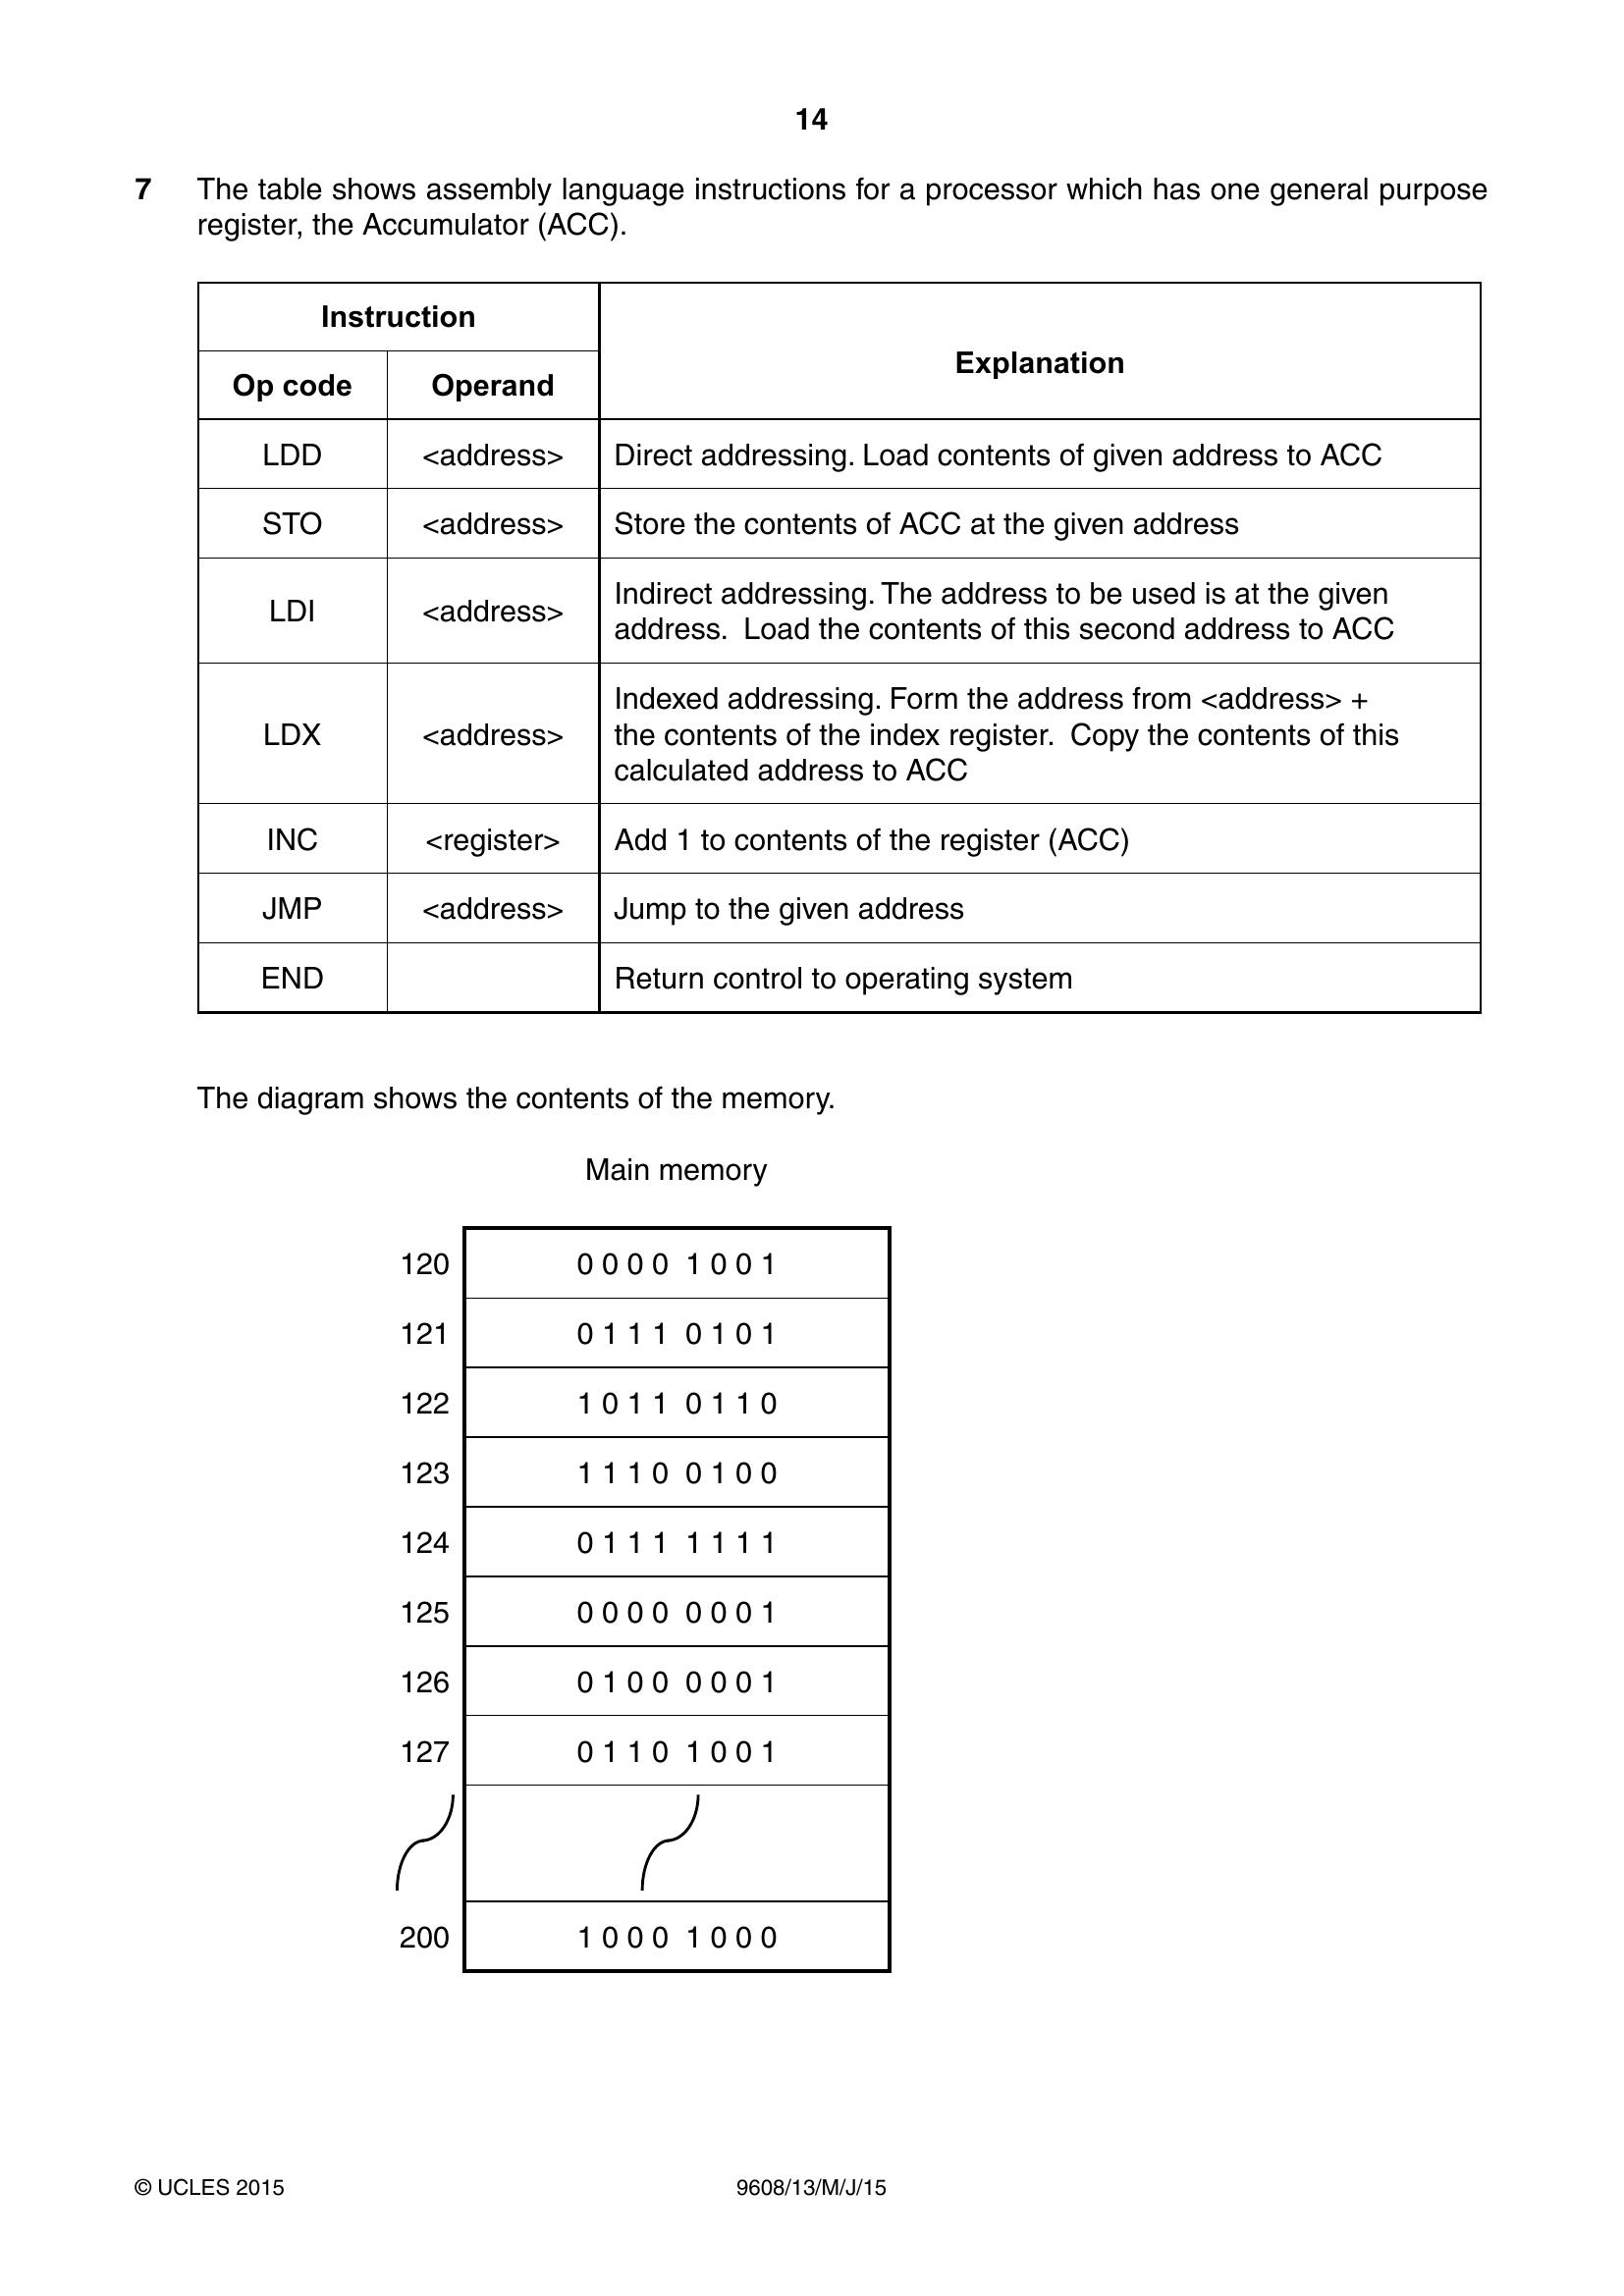question: (4, 155, 1624, 2041)
